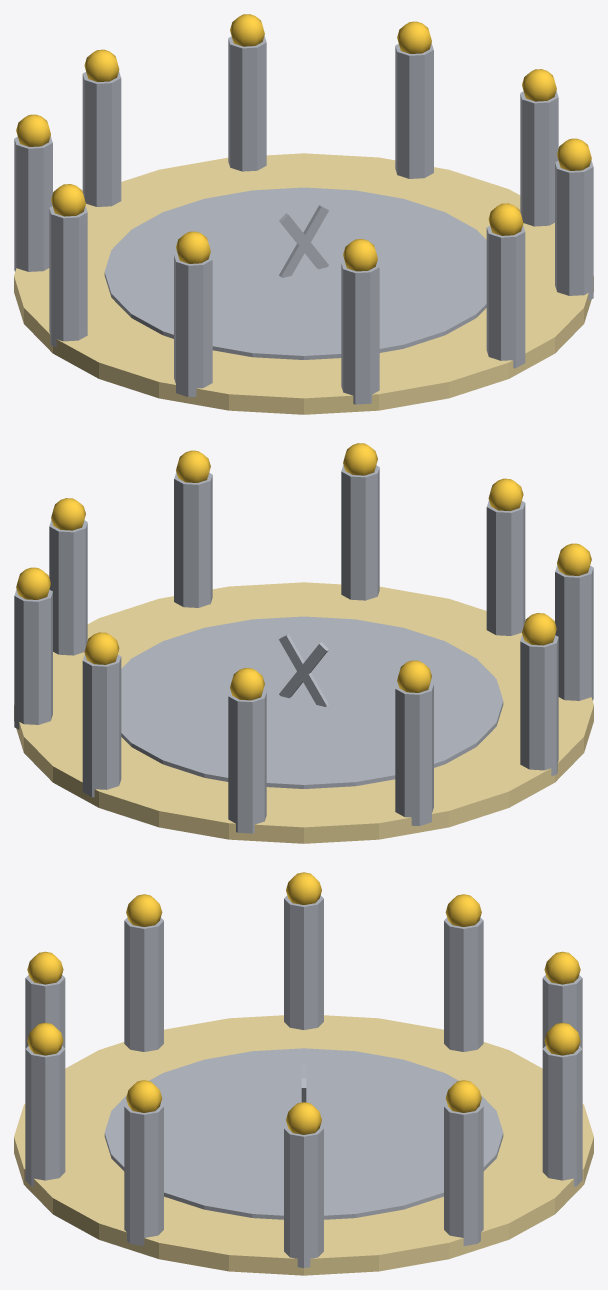
The model's file is b_arena.glb.
The picture shows the model from 3 angles, top to bottom: view 1: azimuth 30°, elevation 25°; view 2: azimuth 150°, elevation 25°; view 3: azimuth 270°, elevation 25°; orthographic projection.
Visible parts, largest first — view 1: Floor, Ring, Pillar.008, Pillar.006, Pillar.007, Pillar.003, Pillar.005, Pillar.009, Pillar.002, Pillar.001, Pillar.004, Pillar (+12 smaller); view 2: Floor, Ring, Pillar.002, Pillar.004, Pillar.003, Pillar.007, Pillar.005, Pillar.001, Pillar.008, Pillar.009, Pillar.006, Pillar (+12 smaller); view 3: Floor, Ring, Pillar.002, Pillar.008, Pillar.001, Pillar.009, Pillar, Pillar.005, Pillar.004, Pillar.006, Pillar.003, Pillar.007 (+10 smaller).
Boxes of the visible parts, x1,y1,x2,y2 form: Floor: [14, 153, 593, 414]; Ring: [104, 187, 486, 359]; Pillar.008: [486, 225, 525, 368]; Pillar.006: [174, 253, 212, 396]; Pillar.007: [341, 261, 379, 404]; Pillar.003: [82, 72, 121, 206]; Pillar.005: [49, 206, 87, 347]; Pillar.009: [555, 160, 593, 300]; Pillar.002: [228, 36, 266, 171]; Pillar.001: [395, 43, 433, 178]; Pillar.004: [14, 136, 52, 271]; Pillar: [520, 91, 558, 226]; Floor: [14, 582, 593, 843]; Ring: [121, 616, 503, 788]; Pillar.002: [82, 654, 121, 797]; Pillar.004: [395, 682, 433, 825]; Pillar.003: [228, 690, 266, 833]; Pillar.007: [486, 501, 525, 635]; Pillar.005: [520, 635, 558, 776]; Pillar.001: [14, 589, 52, 729]; Pillar.008: [341, 465, 379, 600]; Pillar.009: [174, 472, 212, 607]; Pillar.006: [555, 565, 593, 700]; Pillar: [49, 520, 87, 655]; Floor: [14, 1015, 593, 1275]; Ring: [104, 1048, 503, 1219]; Pillar.002: [542, 1046, 582, 1186]; Pillar.008: [25, 1046, 65, 1186]; Pillar.001: [444, 1103, 483, 1245]; Pillar.009: [124, 1103, 163, 1245]; Pillar: [284, 1125, 323, 1267]; Pillar.005: [284, 895, 323, 1029]; Pillar.004: [444, 917, 483, 1051]; Pillar.006: [124, 917, 163, 1051]; Pillar.003: [542, 975, 582, 1048]; Pillar.007: [25, 975, 65, 1048].
Size of the model in its own units: 6.44 by 2 by 6.4.
